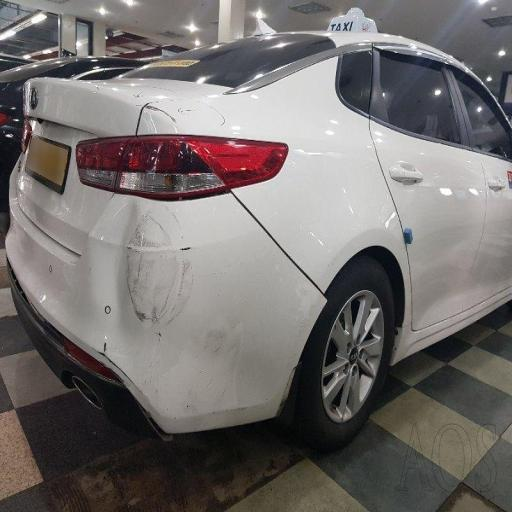scratch: (122, 211, 211, 341), (109, 86, 234, 171)
